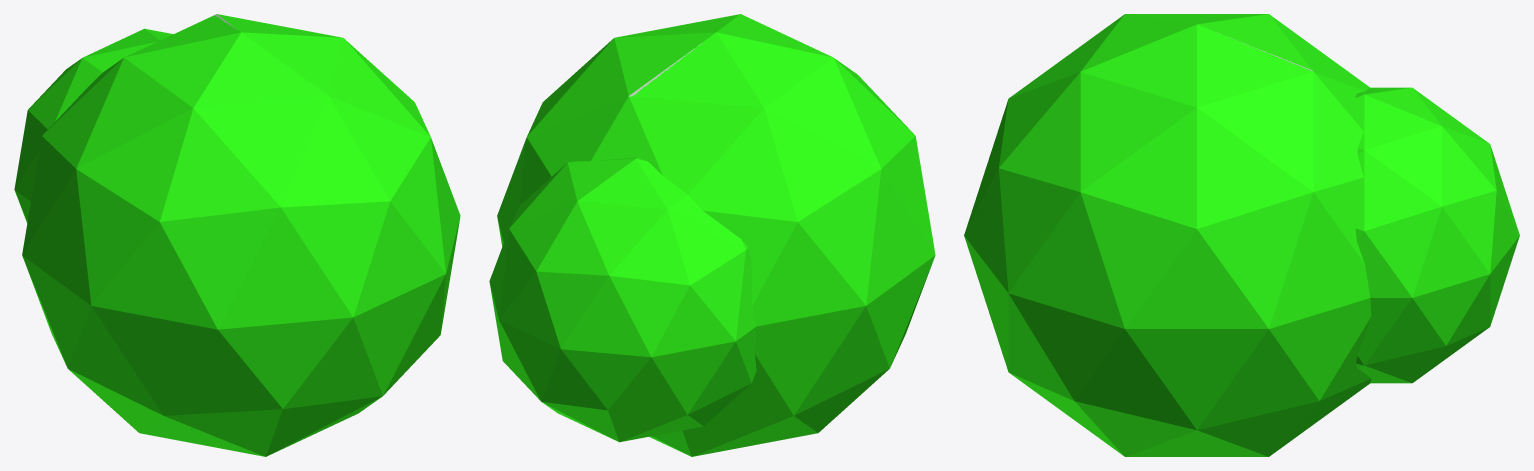
Rendered from tree.glb.
3 views of the same model, side by side, from view 1: azimuth 30°, elevation 25°; view 2: azimuth 150°, elevation 25°; view 3: azimuth 270°, elevation 25° (orthographic). The views are drawn at different scales.
Visible parts, largest first — view 1: Icosphere, Icosphere.001; view 2: Icosphere, Icosphere.001; view 3: Icosphere, Icosphere.001.
Boxes of the visible parts, x1,y1,x2,y2 form: Icosphere: (22,14,460,456); Icosphere.001: (14,28,173,223); Icosphere: (497,14,935,456); Icosphere.001: (489,157,756,442); Icosphere: (964,14,1371,456); Icosphere.001: (1355,87,1519,383).
Bounding box in the file's own units: 1.9 × 2 × 2.39.
2 materials, 2 textured.
